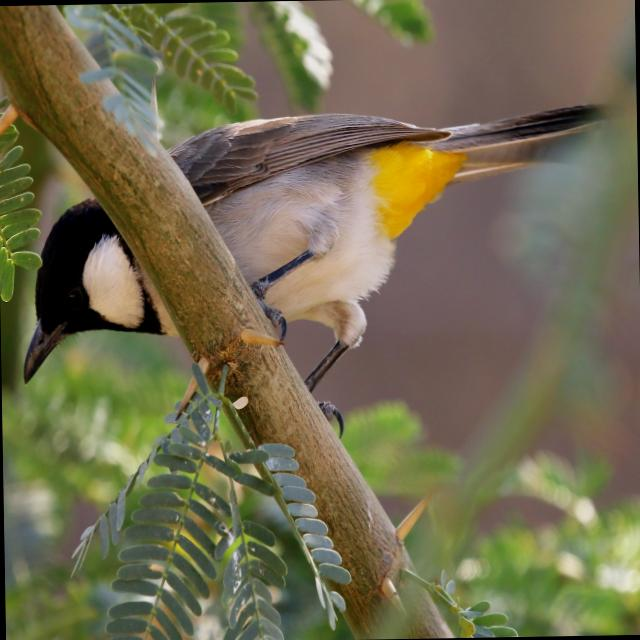bird: (0, 76, 622, 447)
